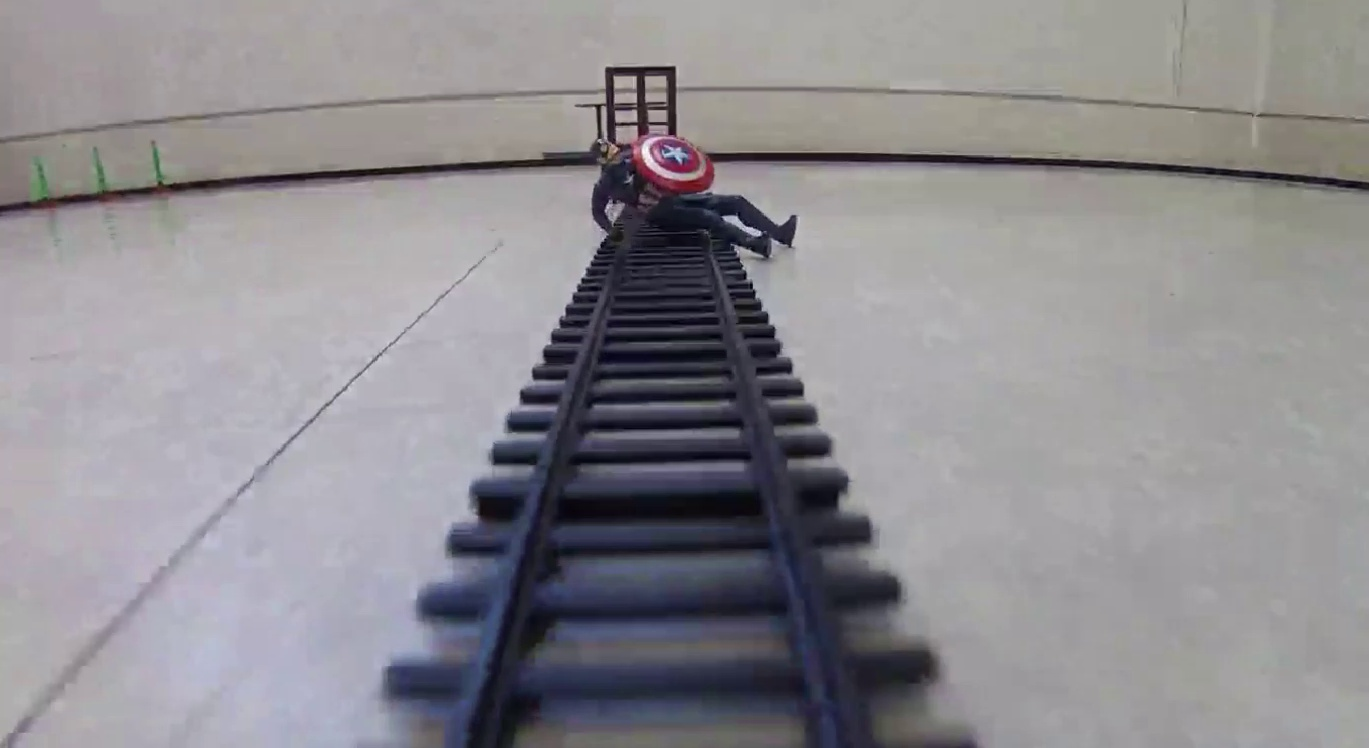people: (591, 132, 796, 259)
